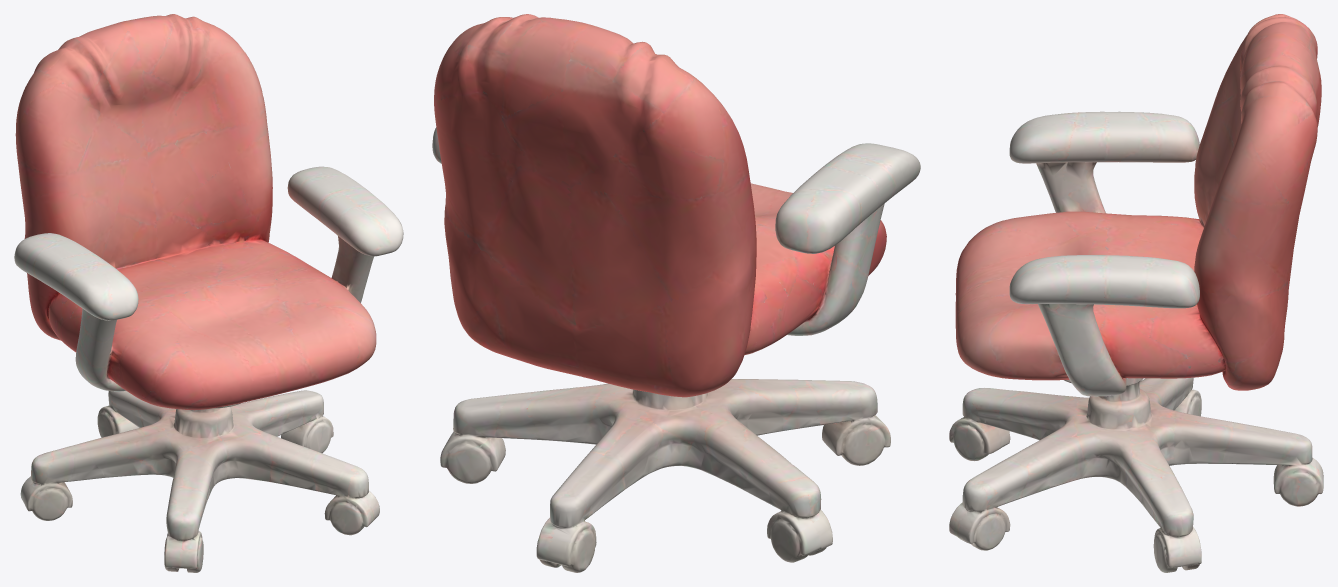
The model's file is chair.glb.
3 views of the same model, side by side, from view 1: azimuth 30°, elevation 25°; view 2: azimuth 150°, elevation 25°; view 3: azimuth 270°, elevation 25° (orthographic). The views are drawn at different scales.
Size of the model in its own units: 1.51 by 1.9 by 1.39.
1 material, 1 textured.
